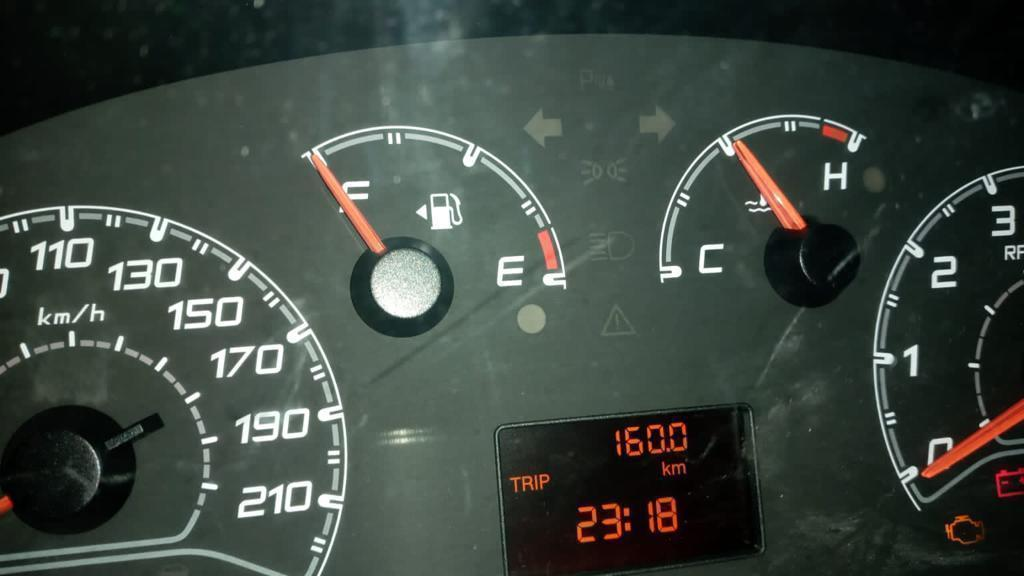,: (665, 447, 670, 454)
0: (645, 423, 666, 454), (668, 421, 688, 451)
1: (643, 500, 655, 534), (612, 427, 622, 456)
2: (574, 504, 598, 544)
3: (600, 501, 623, 541)
6: (623, 424, 645, 457)
8: (656, 495, 678, 533)
X: (507, 474, 520, 493), (623, 506, 632, 533), (521, 473, 533, 492), (671, 462, 687, 475), (660, 459, 671, 477), (539, 471, 549, 490), (533, 472, 538, 491)
odometer: (492, 400, 770, 574)
